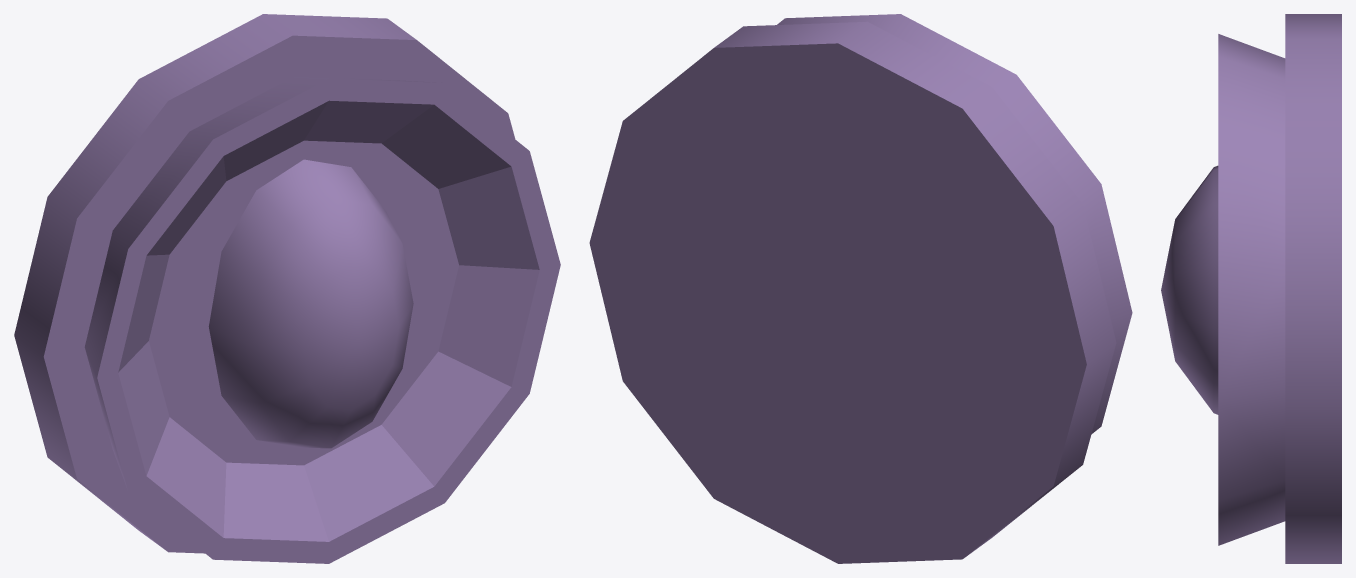
File: light_3_low.fbx
3 views of the same model, side by side, from view 1: azimuth 30°, elevation 25°; view 2: azimuth 150°, elevation 25°; view 3: azimuth 270°, elevation 25° (orthographic). The views are drawn at different scales.
Parts seen in each view (by area): view 1: bombilla_low; view 2: bombilla_low; view 3: bombilla_low.
Boxes of the visible parts, x1,y1,x2,y2 form: bombilla_low: (14,14,560,563); bombilla_low: (589,14,1132,563); bombilla_low: (1161,14,1341,563).
Size of the model in its own units: 24.47 by 24.47 by 8.02.
